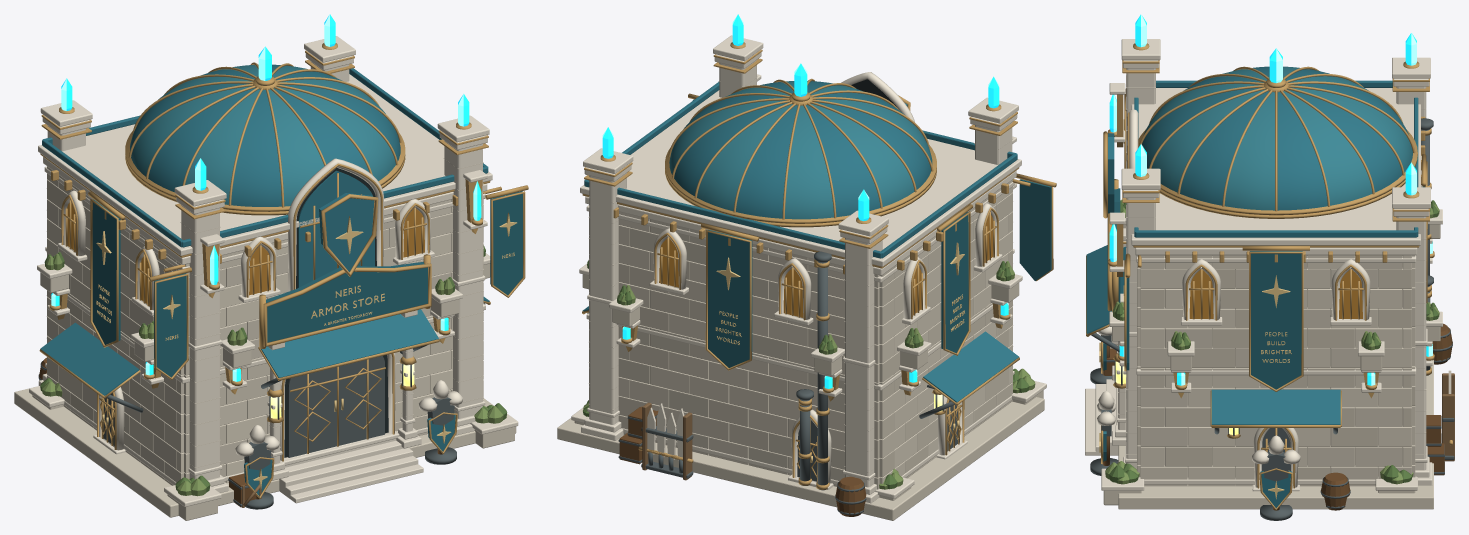
Rendered from Neris-Armor-Store.glb.
The picture shows the model from 3 angles, left to right: view 1: azimuth 30°, elevation 25°; view 2: azimuth 150°, elevation 25°; view 3: azimuth 270°, elevation 25°; orthographic projection. The views are drawn at different scales.
Parts seen in each view (by area): view 1: Pale Carved Stone, Teal Enamel Roof, Aged Gold, Neris Teal Banner, Teal Enamel Alternate, Patinated Iron, Ivory Limestone, Limestone Block Tone 4, Limestone Block Tone 2, Limestone Block Tone 1, Limestone Block Tone 3, Amber Window Glass (+6 smaller); view 2: Pale Carved Stone, Teal Enamel Roof, Aged Gold, Limestone Block Tone 3, Teal Enamel Alternate, Limestone Block Tone 2, Limestone Block Tone 1, Neris Teal Banner, Ivory Limestone, Limestone Block Tone 4, Patinated Iron, Cyan Relay Crystal (+6 smaller); view 3: Pale Carved Stone, Teal Enamel Roof, Aged Gold, Teal Enamel Alternate, Limestone Block Tone 1, Limestone Block Tone 4, Limestone Block Tone 2, Ivory Limestone, Limestone Block Tone 3, Neris Teal Banner, Patinated Iron, Dark Walnut (+7 smaller).
Part boxes in pixels (x1=…): Pale Carved Stone: x1=29, y1=36, x2=518, y2=506; Teal Enamel Roof: x1=40, y1=64, x2=489, y2=495; Aged Gold: x1=39, y1=43, x2=528, y2=498; Neris Teal Banner: x1=92, y1=191, x2=522, y2=377; Teal Enamel Alternate: x1=131, y1=65, x2=395, y2=206; Patinated Iron: x1=38, y1=303, x2=485, y2=509; Ivory Limestone: x1=14, y1=158, x2=516, y2=520; Limestone Block Tone 4: x1=47, y1=195, x2=483, y2=482; Limestone Block Tone 2: x1=47, y1=199, x2=483, y2=485; Limestone Block Tone 1: x1=47, y1=166, x2=483, y2=482; Limestone Block Tone 3: x1=47, y1=199, x2=483, y2=473; Amber Window Glass: x1=67, y1=202, x2=424, y2=305; Pale Carved Stone: x1=571, y1=35, x2=1046, y2=503; Teal Enamel Roof: x1=582, y1=81, x2=1018, y2=402; Aged Gold: x1=582, y1=42, x2=1056, y2=489; Limestone Block Tone 3: x1=589, y1=183, x2=1012, y2=483; Teal Enamel Alternate: x1=669, y1=81, x2=932, y2=219; Limestone Block Tone 2: x1=589, y1=180, x2=1012, y2=458; Limestone Block Tone 1: x1=589, y1=192, x2=1012, y2=489; Neris Teal Banner: x1=693, y1=99, x2=1051, y2=367; Ivory Limestone: x1=557, y1=76, x2=1044, y2=520; Limestone Block Tone 4: x1=589, y1=204, x2=1012, y2=475; Patinated Iron: x1=587, y1=251, x2=959, y2=515; Cyan Relay Crystal: x1=602, y1=14, x2=1008, y2=388; Pale Carved Stone: x1=1085, y1=39, x2=1451, y2=491; Teal Enamel Roof: x1=1086, y1=66, x2=1418, y2=508; Aged Gold: x1=1086, y1=43, x2=1452, y2=510; Teal Enamel Alternate: x1=1143, y1=66, x2=1412, y2=210; Limestone Block Tone 1: x1=1137, y1=255, x2=1415, y2=486; Limestone Block Tone 4: x1=1137, y1=255, x2=1415, y2=486; Limestone Block Tone 2: x1=1137, y1=255, x2=1415, y2=486; Ivory Limestone: x1=1103, y1=75, x2=1440, y2=509; Limestone Block Tone 3: x1=1137, y1=255, x2=1415, y2=486; Neris Teal Banner: x1=1114, y1=186, x2=1424, y2=389; Patinated Iron: x1=1090, y1=118, x2=1454, y2=520; Dark Walnut: x1=1103, y1=323, x2=1452, y2=510.
Size of the model in its own units: 13.38 by 12.23 by 10.89.
